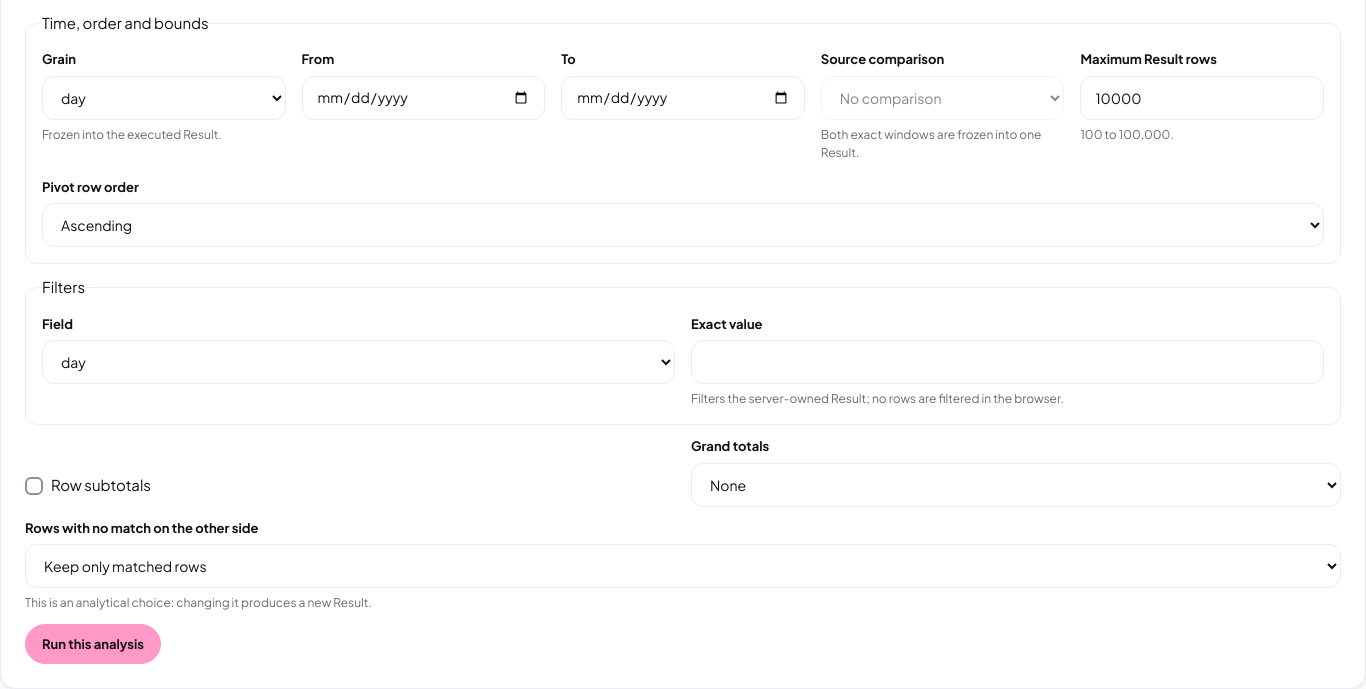
Test: executes the versions the handoff pinned, never the ones its own catalog holds
(page scrolled)
What coordinates should you click on to do the following:
click the button with test id "run-analysis"
I would click on:
 (93, 644)
Its box is top-left (25, 624), bottom-right (161, 664).
(page scrolled)
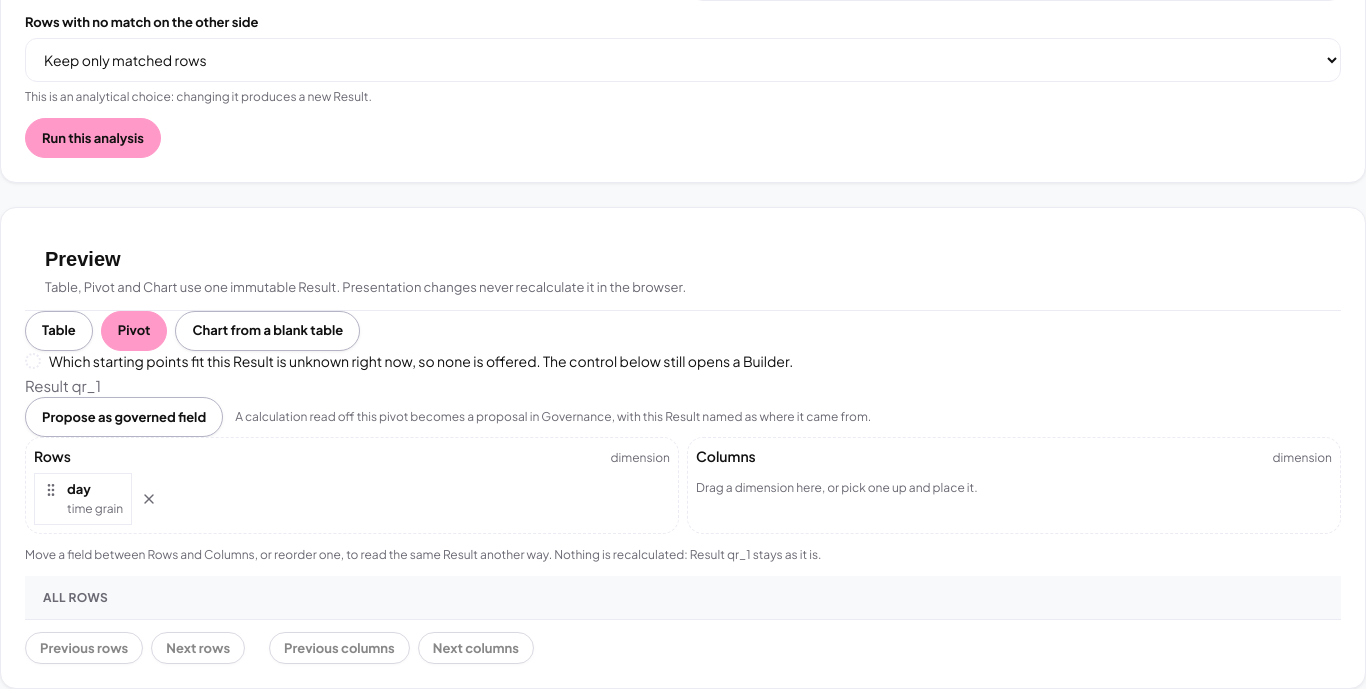
Expected: the text with test id "result-identity" shows "qr_1", top-left (71, 376), bottom-right (101, 395)
